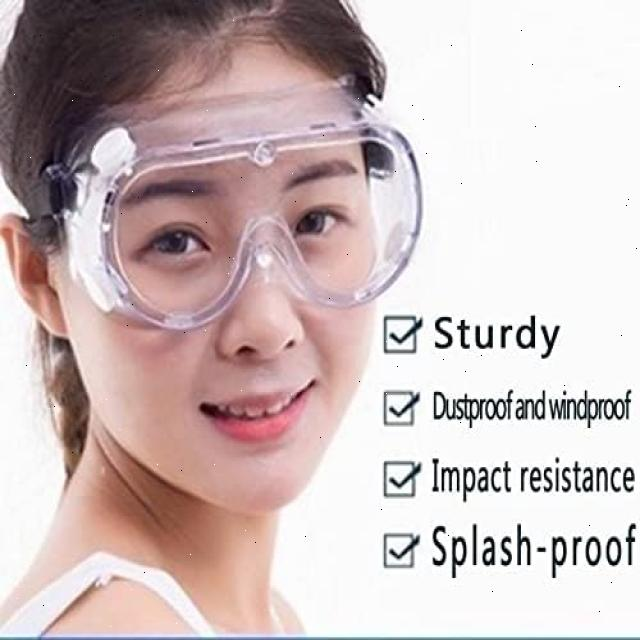goggles_on: (20, 82, 430, 339)
